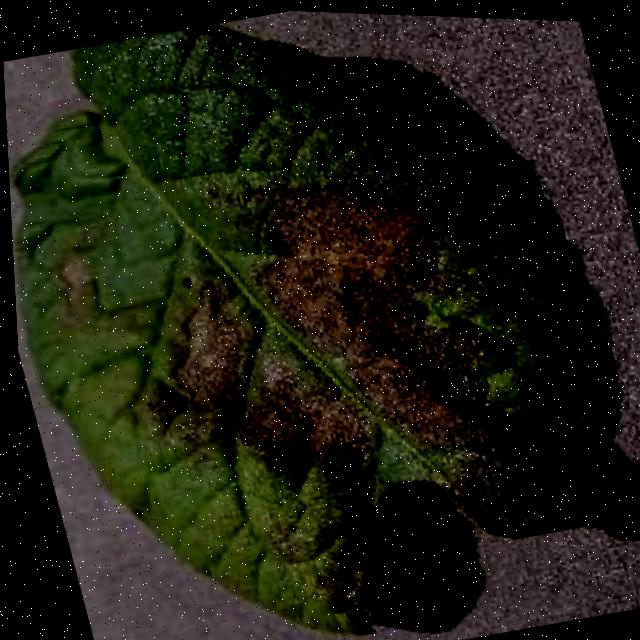Late_blight: (231, 150, 602, 583), (95, 266, 388, 537)
